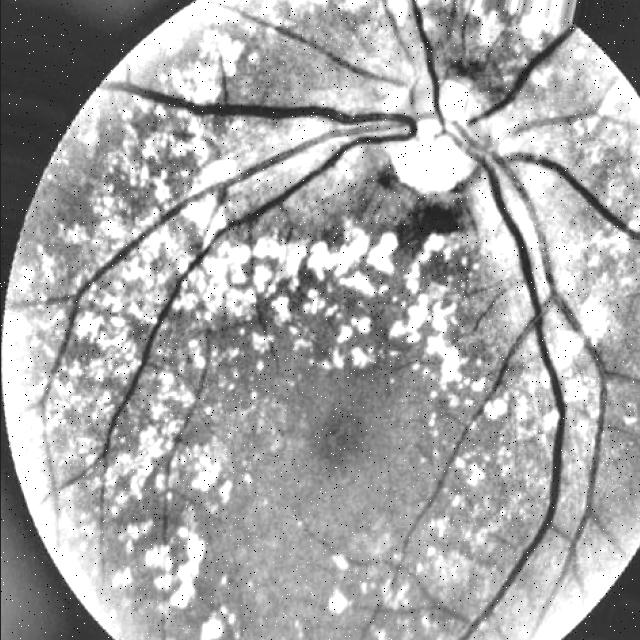Macula: (290, 368, 380, 477)
Nerves: (59, 96, 423, 447), (437, 124, 640, 618)
Optic Disk: (382, 65, 498, 202)
